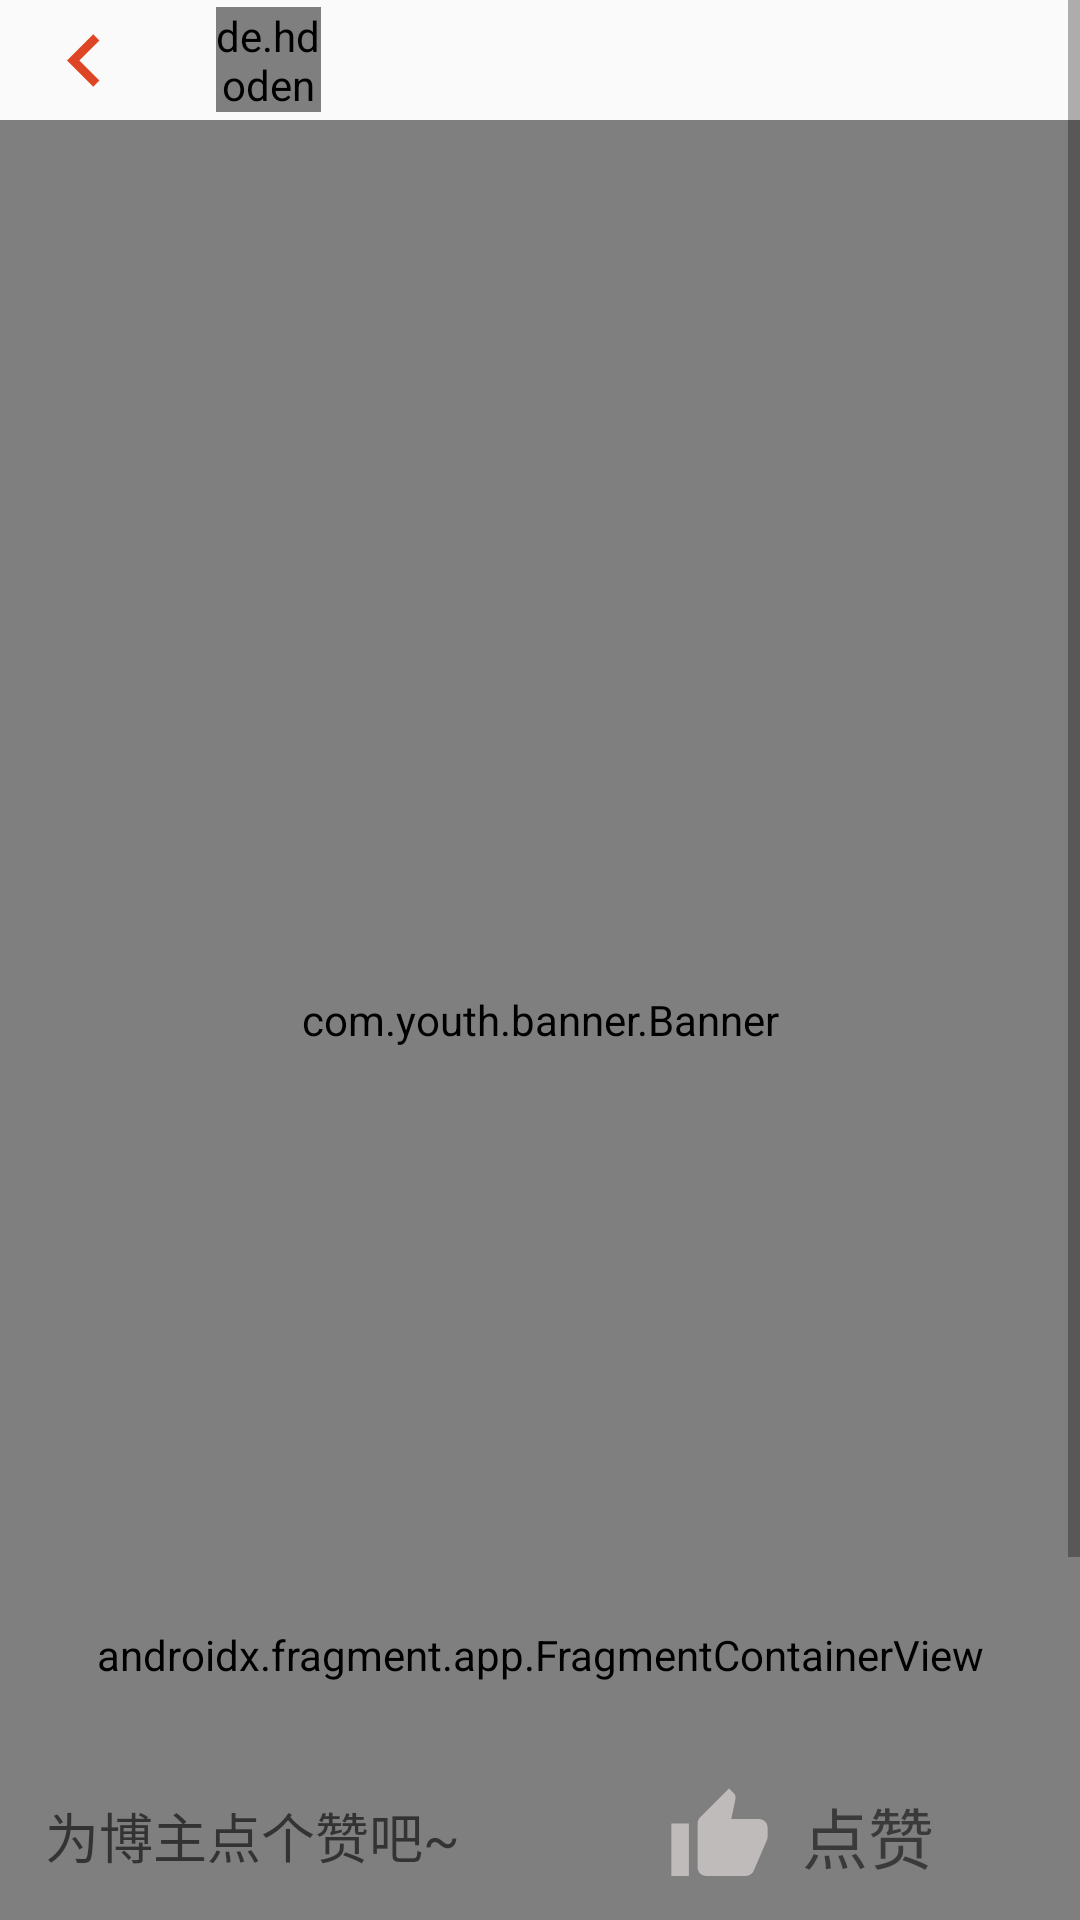

Where icons sit on this 1080 x 1920 app screen, as BBox(x1, y1, x2, y2):
thumb up: BBox(671, 1789, 768, 1876)
